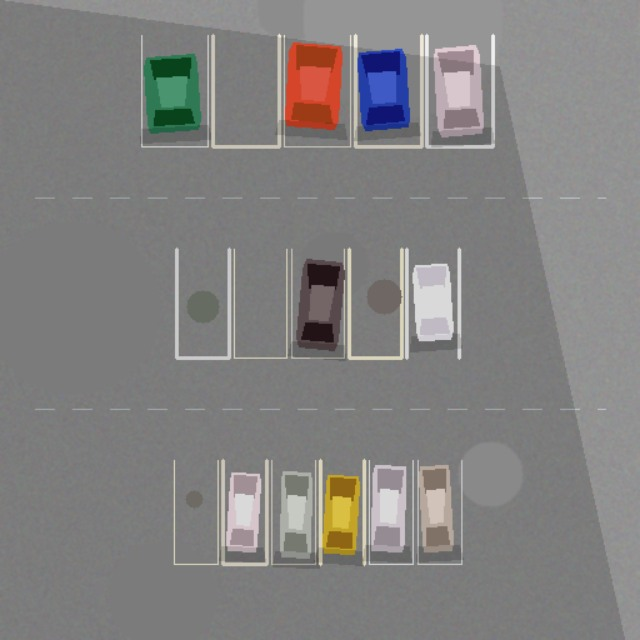space-empty: (212, 35, 279, 146), (176, 249, 229, 358), (234, 249, 286, 358), (349, 249, 401, 358), (174, 460, 217, 564)
space-occupied: (141, 35, 208, 146), (284, 35, 350, 146), (355, 35, 421, 146), (426, 35, 492, 146), (291, 249, 344, 358), (406, 249, 459, 358), (271, 460, 315, 564), (320, 460, 364, 564), (369, 460, 413, 564), (417, 460, 461, 564), (223, 460, 266, 564)
